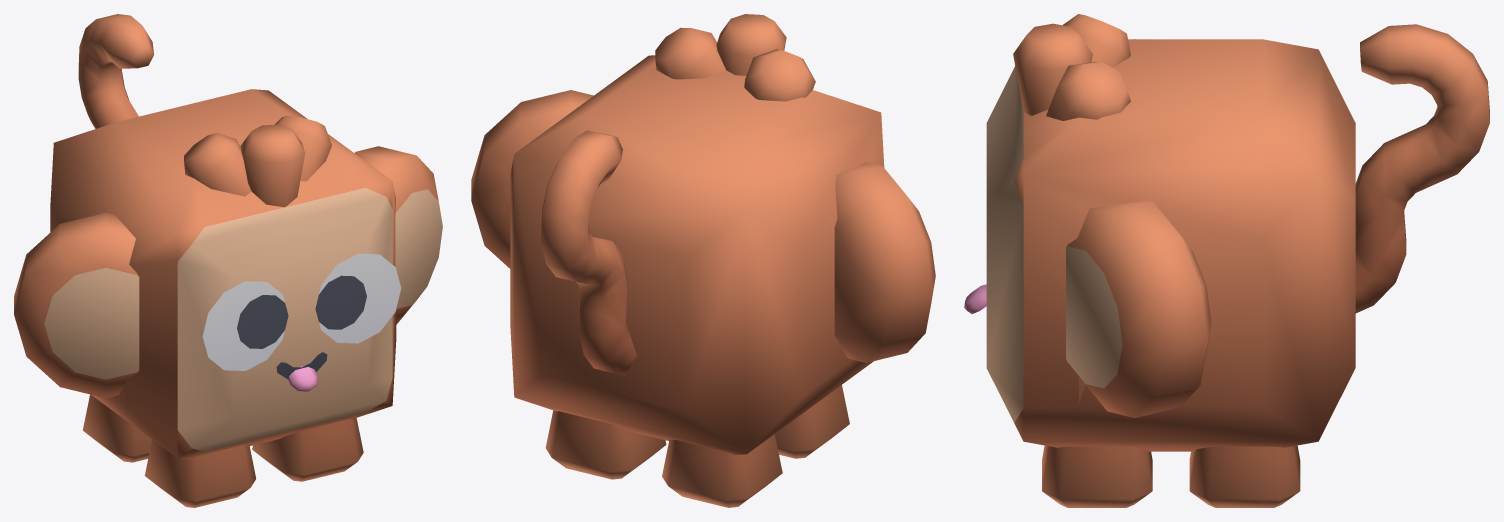
The model's file is cc0-monkey-lod0.glb.
3 renders of one model, left to right at view 1: azimuth 30°, elevation 25°; view 2: azimuth 150°, elevation 25°; view 3: azimuth 270°, elevation 25°, orthographic. The views are drawn at different scales.
Visible parts, largest first — view 1: part_5, part_6, part_2, part_1, part_3; view 2: part_5, part_6, part_3, part_4, part_2; view 3: part_5, part_6, part_4, part_1.
Boxes of the visible parts, bbox=[...] form: part_5: bbox=[14, 89, 442, 458]; part_6: bbox=[78, 14, 154, 128]; part_2: bbox=[144, 440, 256, 507]; part_1: bbox=[252, 418, 363, 481]; part_3: bbox=[82, 394, 151, 462]; part_5: bbox=[471, 14, 935, 454]; part_6: bbox=[541, 130, 636, 375]; part_3: bbox=[662, 434, 782, 507]; part_4: bbox=[545, 410, 666, 479]; part_2: bbox=[775, 385, 849, 458]; part_5: bbox=[964, 14, 1355, 451]; part_6: bbox=[1355, 24, 1489, 313]; part_4: bbox=[1189, 445, 1300, 507]; part_1: bbox=[1042, 445, 1152, 507].
Bounding box in the file's own units: 1.98 × 1.61 × 1.78.
1 material, 1 textured.
